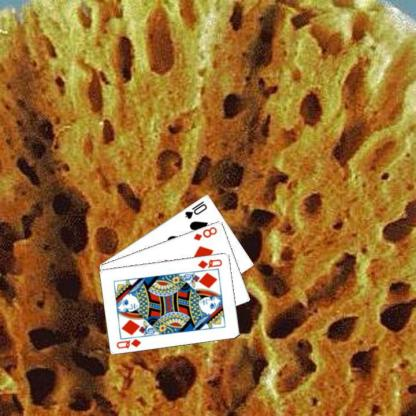10S: (182, 198, 209, 220)
8D: (191, 224, 218, 242)
QD: (195, 256, 224, 270), (114, 336, 142, 350)
